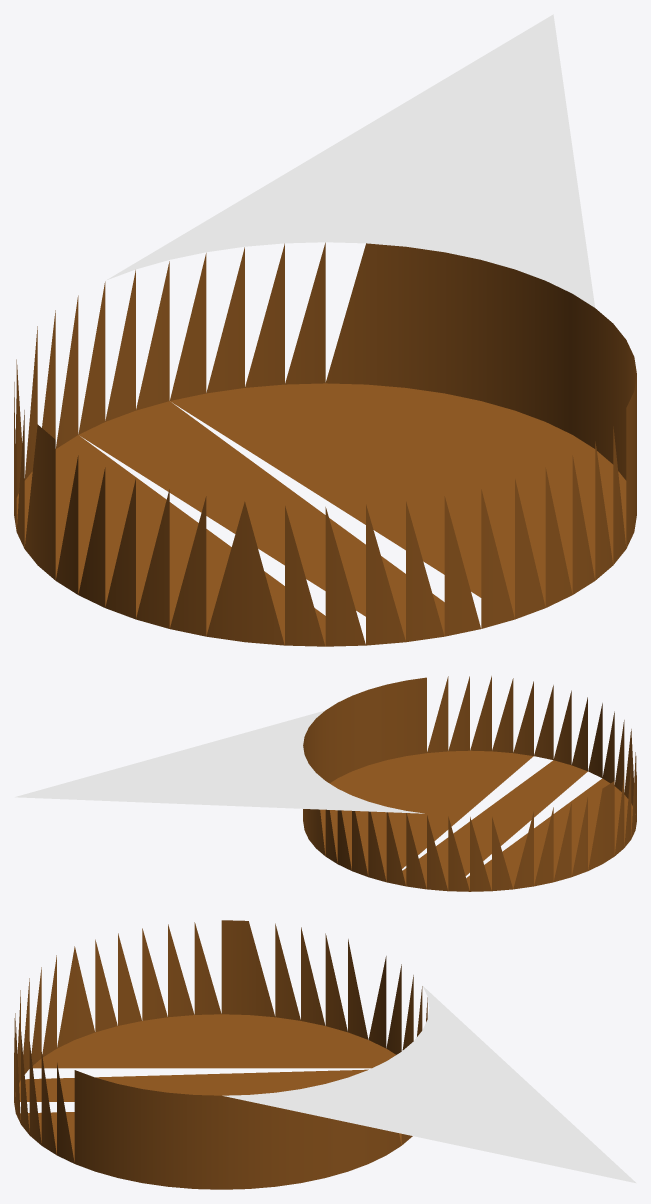
3 views of the same model, one above another, from view 1: azimuth 30°, elevation 25°; view 2: azimuth 150°, elevation 25°; view 3: azimuth 270°, elevation 25° (orthographic). The views are drawn at different scales.
Size of the model in its own units: 0.1904 by 0.0317 by 0.1904.
